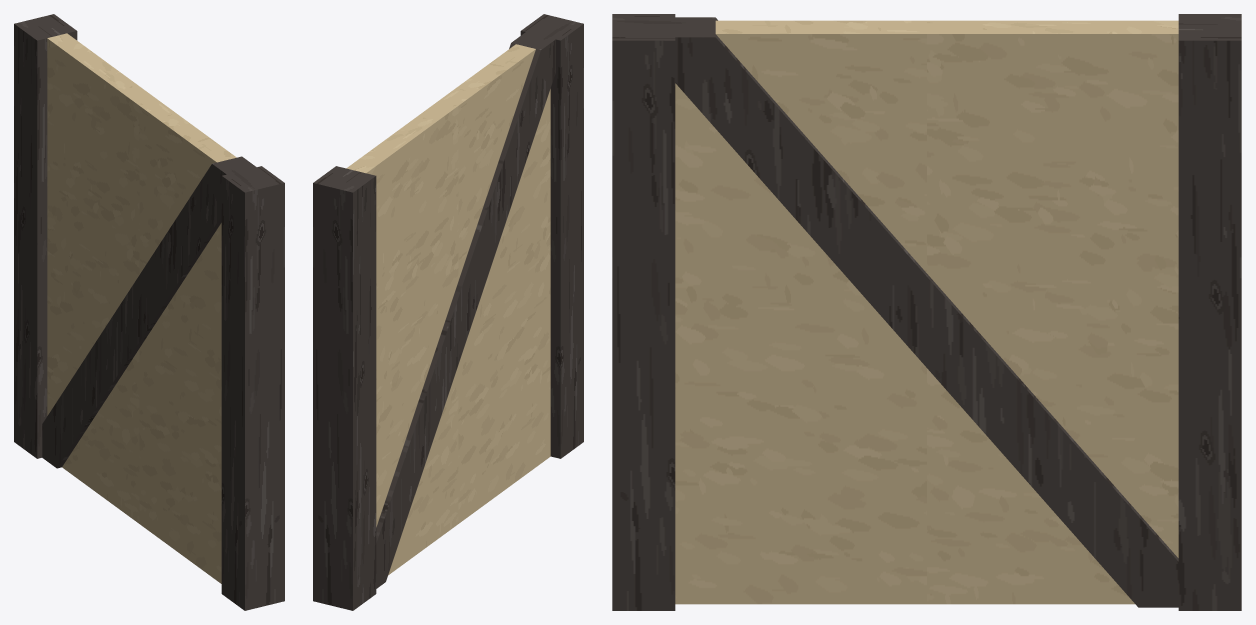
Rendered from wall-detail-diagonal.gltf.
3 renders of one model, left to right at view 1: azimuth 30°, elevation 25°; view 2: azimuth 150°, elevation 25°; view 3: azimuth 270°, elevation 25°, orthographic. The views are drawn at different scales.
Visible parts, largest first — view 1: wall-detail-diagonal; view 2: wall-detail-diagonal; view 3: wall-detail-diagonal.
Part boxes in pixels (x1=…): wall-detail-diagonal: x1=14, y1=14, x2=284, y2=610; wall-detail-diagonal: x1=313, y1=14, x2=583, y2=610; wall-detail-diagonal: x1=612, y1=14, x2=1241, y2=610.
Bounding box in the file's own units: 0.1 × 1 × 1.
2 materials, 2 textured.
